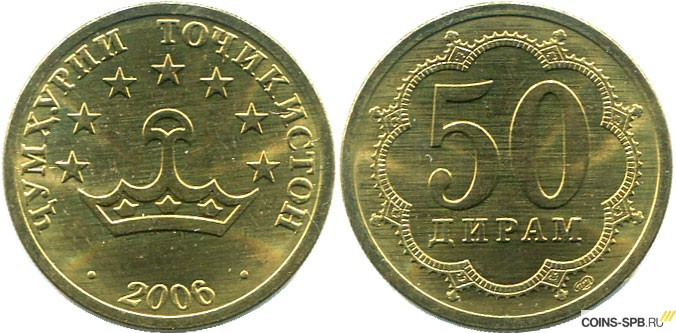coin: (340, 2, 671, 332), (4, 4, 334, 333)
